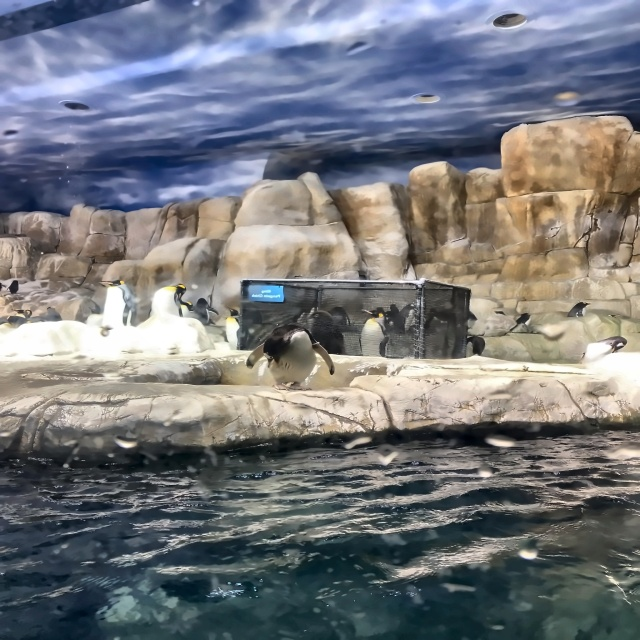penguin: (249, 327, 323, 389), (348, 307, 393, 360), (98, 276, 139, 332), (146, 282, 185, 321), (578, 334, 628, 361), (222, 306, 243, 349), (190, 294, 216, 328), (460, 336, 485, 359), (565, 299, 588, 321), (7, 310, 31, 330), (42, 303, 60, 325), (5, 279, 21, 296), (515, 312, 527, 327)
